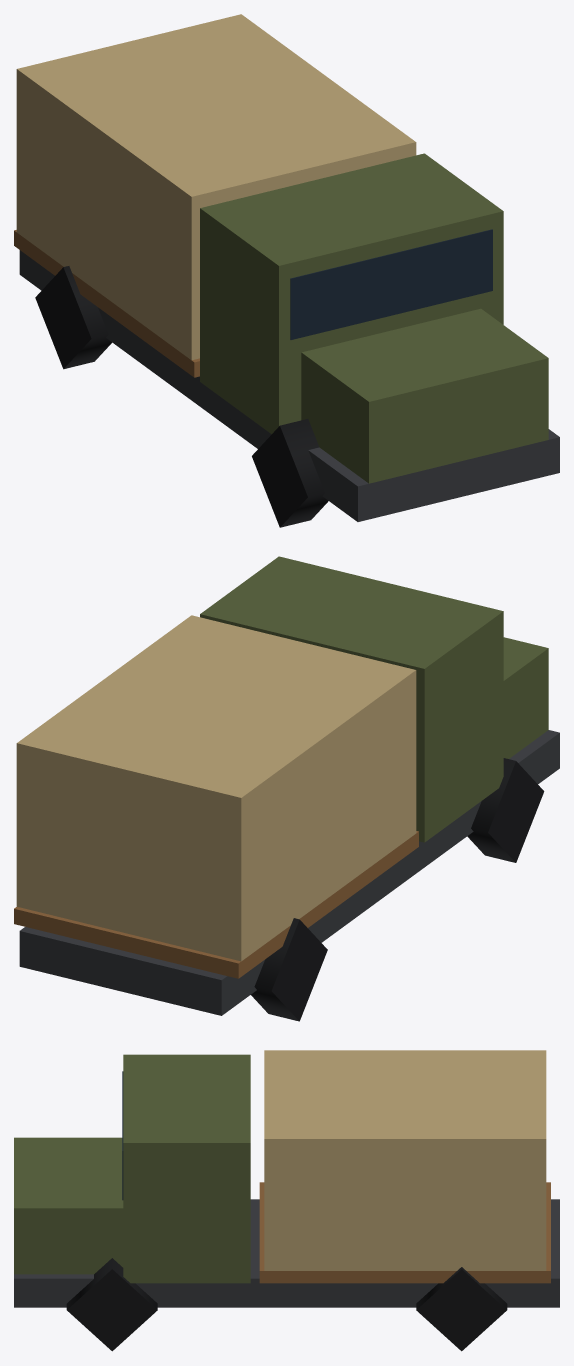
The model's file is veh_ground_truck_a06_lod2.glb.
3 views of the same model, one above another, from view 1: azimuth 30°, elevation 25°; view 2: azimuth 150°, elevation 25°; view 3: azimuth 270°, elevation 25° (orthographic). The views are drawn at different scales.
Parts seen in each view (by area): view 1: body, wheel_2, wheel_0; view 2: body, wheel_2, wheel_0; view 3: body, wheel_3, wheel_1.
Part boxes in pixels (bbox=[...]): body: bbox=[14, 14, 559, 521]; wheel_2: bbox=[252, 419, 328, 527]; wheel_0: bbox=[35, 266, 111, 369]; body: bbox=[14, 556, 559, 1015]; wheel_2: bbox=[467, 758, 544, 862]; wheel_0: bbox=[251, 918, 327, 1021]; body: bbox=[14, 1050, 559, 1307]; wheel_3: bbox=[66, 1258, 157, 1351]; wheel_1: bbox=[416, 1267, 507, 1351].
Bounding box in the file's own units: 2.42 × 2.55 × 6.
